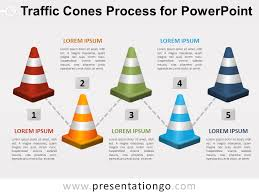cones: (60, 94, 104, 151), (208, 48, 250, 107), (13, 46, 54, 103), (160, 96, 201, 148), (110, 48, 150, 101)
